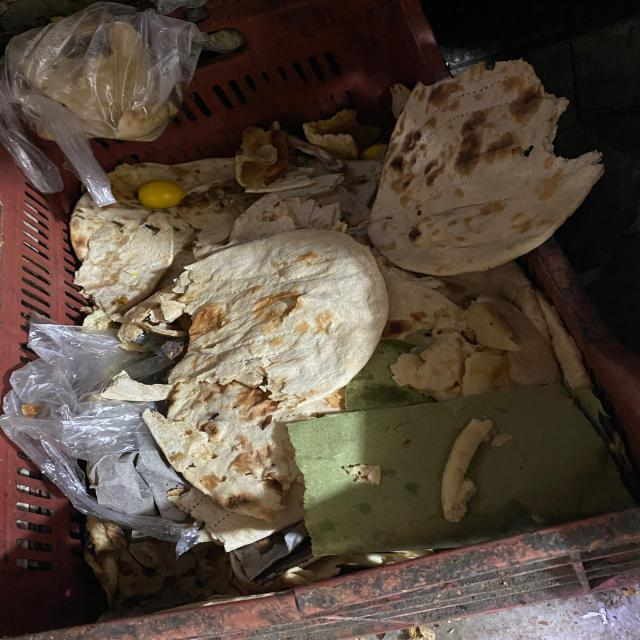paper: (133, 232, 422, 515), (339, 15, 616, 272), (432, 383, 549, 540), (140, 162, 194, 225)
